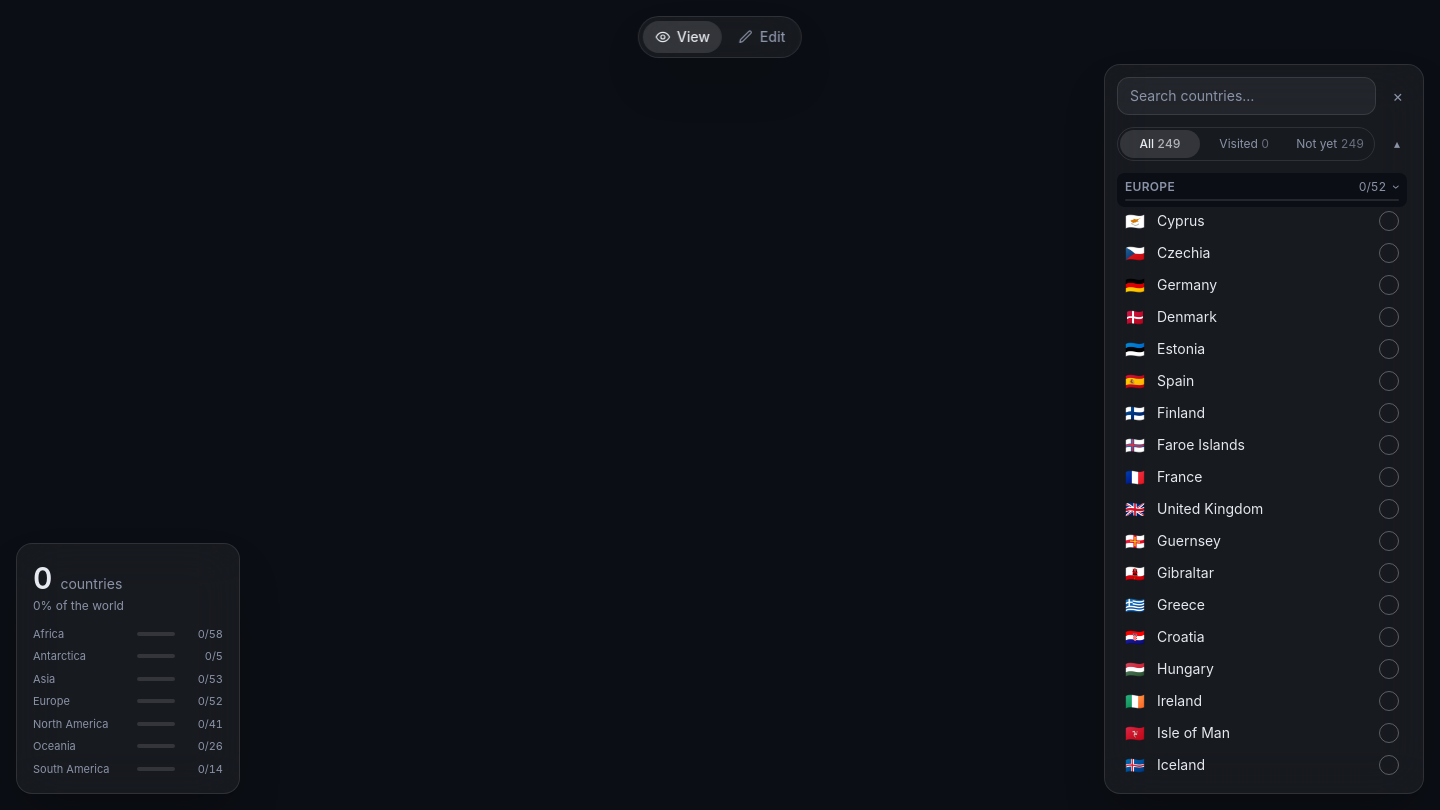
Test: HomePage › groups all countries by continent with visited/total, foldable
The width and height of the screenshot is (1440, 810).
(page scrolled)
Click the checkbox with test id "country-toggle-FR". click: (1389, 477)
box: [1371, 461, 1407, 493]
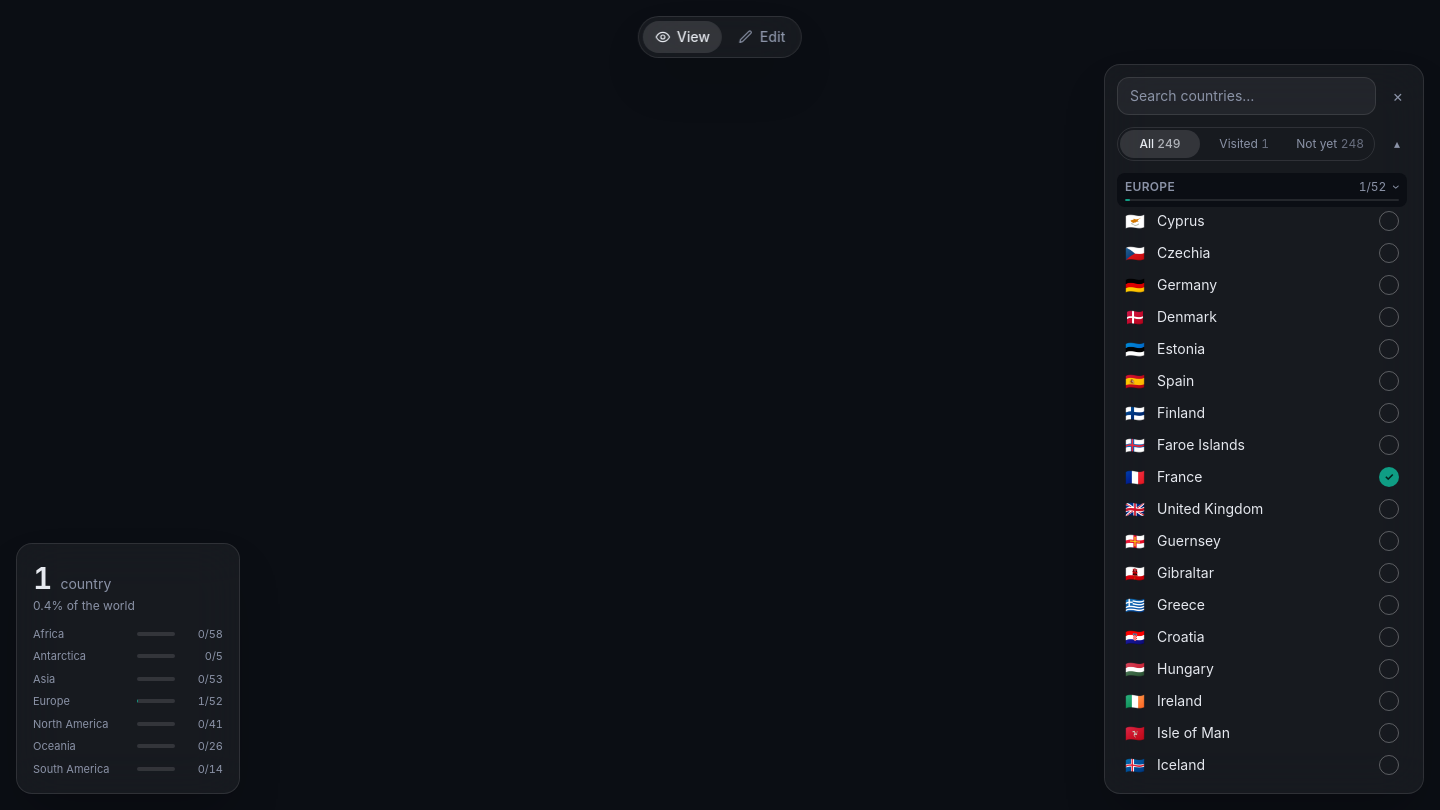
Expected: the button with test id "country-row-FR" is shown, [1117, 461, 1371, 493]
Result: the tab with test id "list-filter-visited" reads "Visited 1" at [1204, 130, 1284, 158]
Result: the button with test id "region-heading-europe" reads "Europe 1/52 ›"
Click the button with test id "region-heading-europe". click: (1150, 186)
box: [1117, 173, 1407, 207]
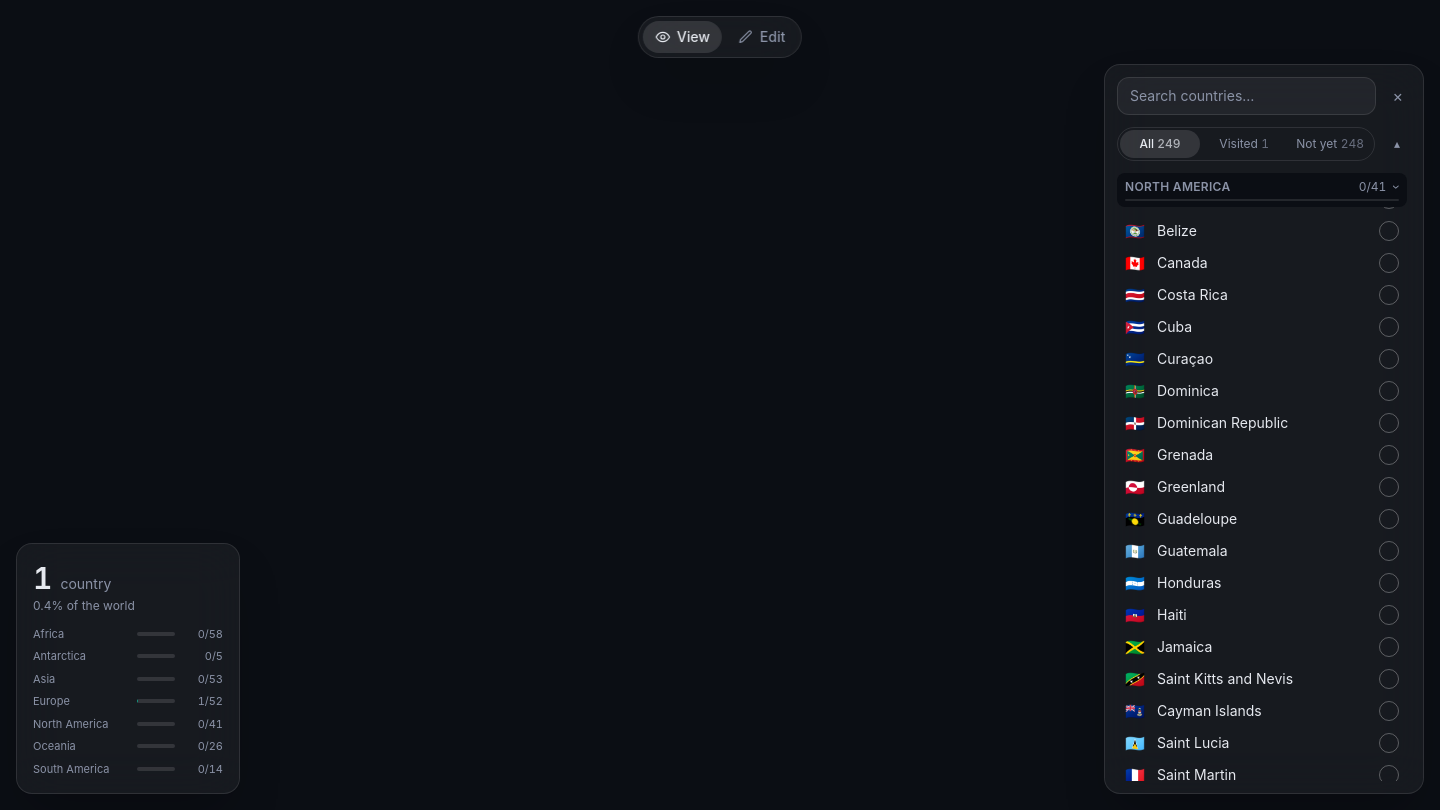
Result: the button with test id "country-row-FR" is gone
// A search shows matches even inside a folded region.
Type "franc" into the search field with test id "country-search". click: (1247, 96)
box: [1117, 77, 1376, 115]
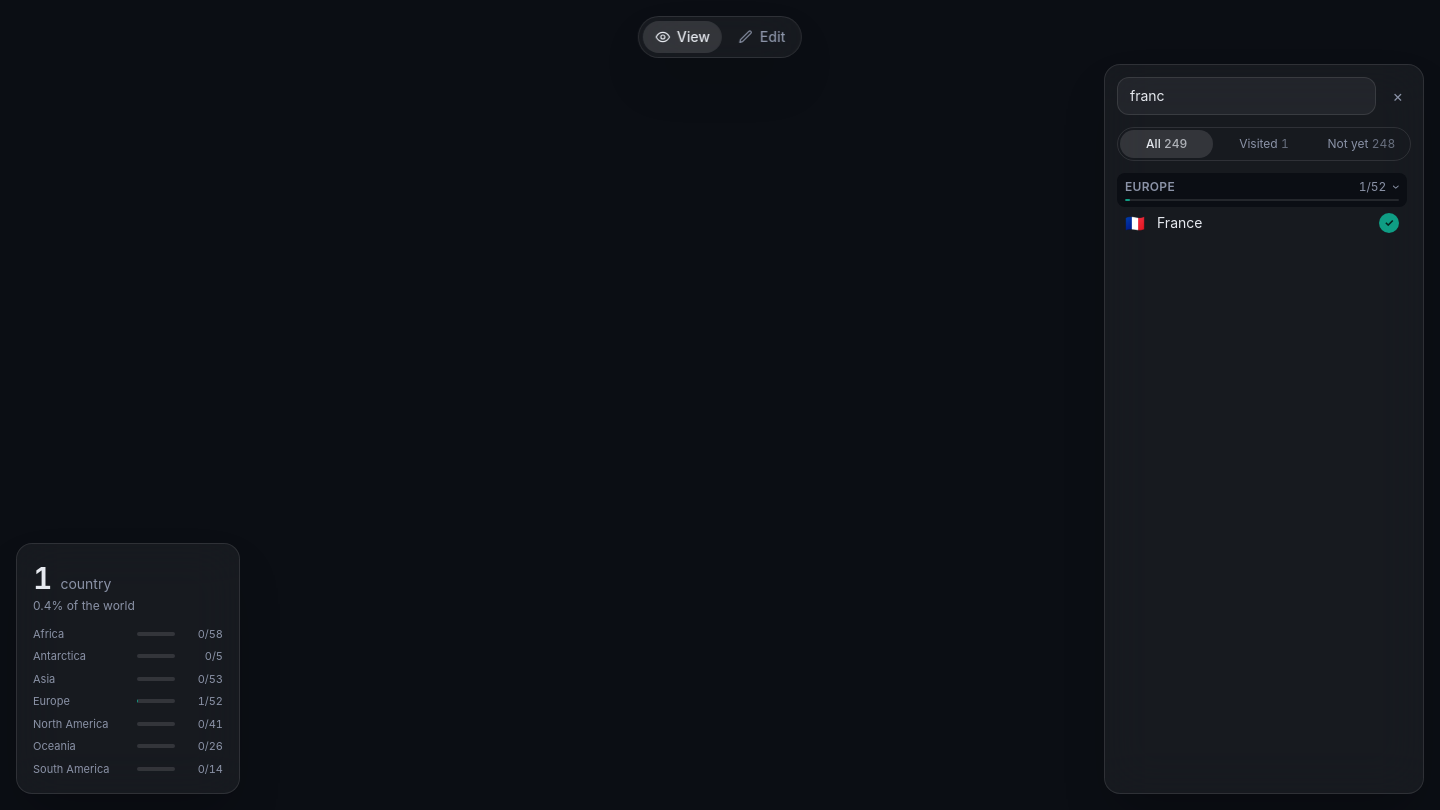
Result: the button with test id "country-row-FR" is shown at [1117, 207, 1371, 239]
